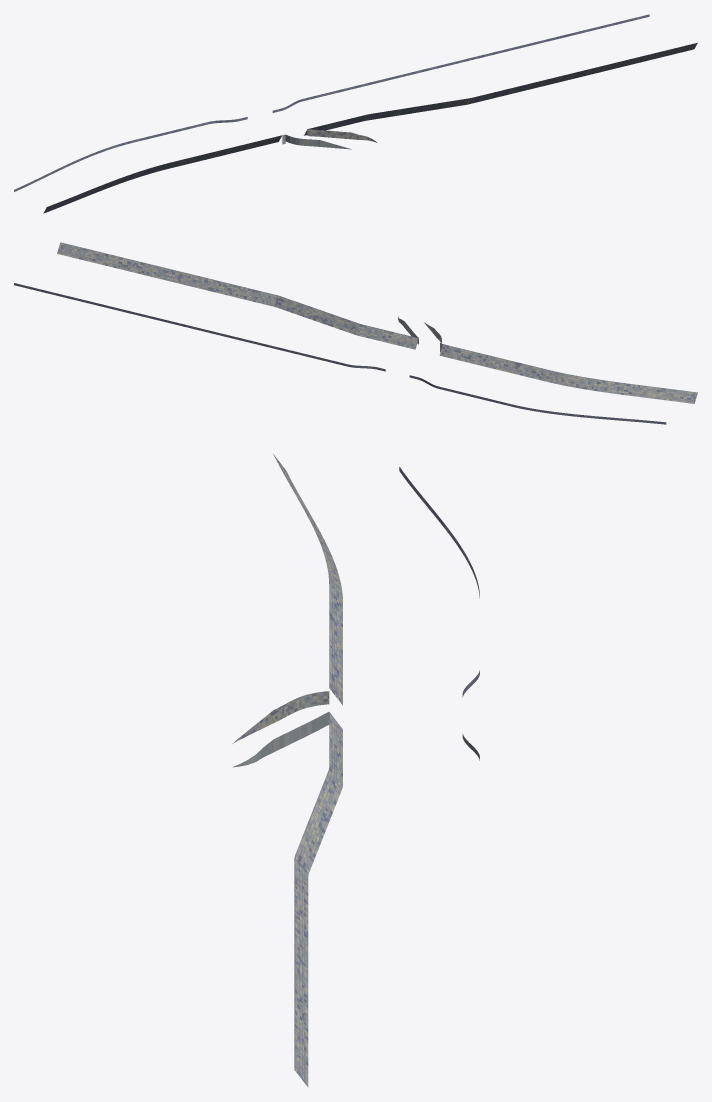
File: ART_KyobashiBanks.glb
3 renders of one model, top to bottom at view 1: azimuth 30°, elevation 25°; view 2: azimuth 150°, elevation 25°; view 3: azimuth 270°, elevation 25°, orthographic. The views are drawn at different scales.
Visible parts, largest first — view 1: ART_KyobashiBanks; view 2: ART_KyobashiBanks; view 3: ART_KyobashiBanks.
Part boxes in pixels (x1,y1,x2,y2): ART_KyobashiBanks: (14,14,697,213); ART_KyobashiBanks: (14,242,697,424); ART_KyobashiBanks: (232,454,479,1087).
Bounding box in the file's own units: 420 × 5.7 × 71.37.
